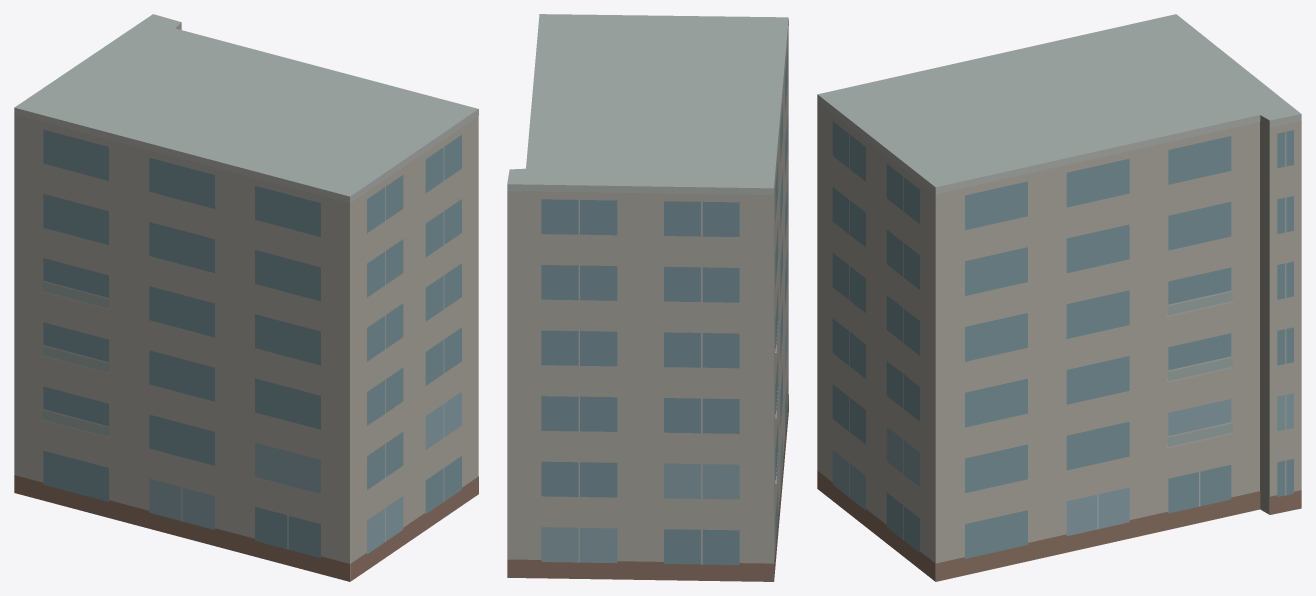
The model's file is survey-upis-32885858.glb.
3 views of the same model, side by side, from view 1: azimuth 30°, elevation 25°; view 2: azimuth 150°, elevation 25°; view 3: azimuth 270°, elevation 25° (orthographic). The views are drawn at different scales.
Parts seen in each view (by area): view 1: survey-upis-32885858.tmp; view 2: survey-upis-32885858.tmp; view 3: survey-upis-32885858.tmp.
Boxes of the visible parts, bbox=[...] form: survey-upis-32885858.tmp: bbox=[14, 14, 478, 581]; survey-upis-32885858.tmp: bbox=[507, 14, 788, 581]; survey-upis-32885858.tmp: bbox=[817, 14, 1301, 581].
Bounding box in the file's own units: 13.16 × 13.95 × 15.52.
